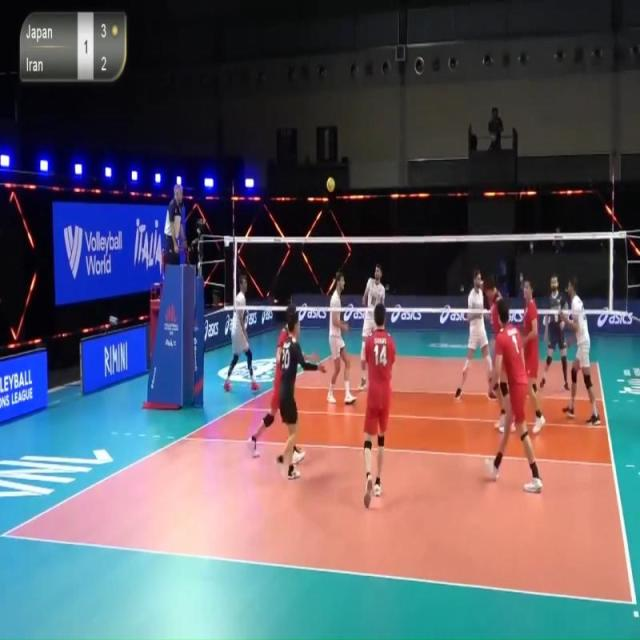volleyball: (325, 174, 337, 195)
